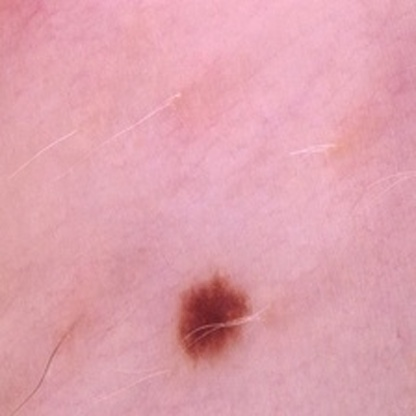benign: (175, 273, 252, 355)
